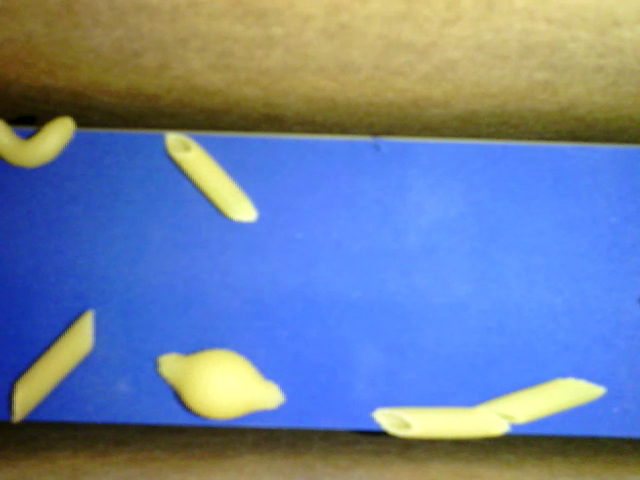elbow: (1, 115, 77, 167)
penne: (12, 308, 95, 425), (164, 131, 259, 223), (470, 375, 607, 425), (370, 406, 511, 439)
shell: (157, 349, 286, 421)
